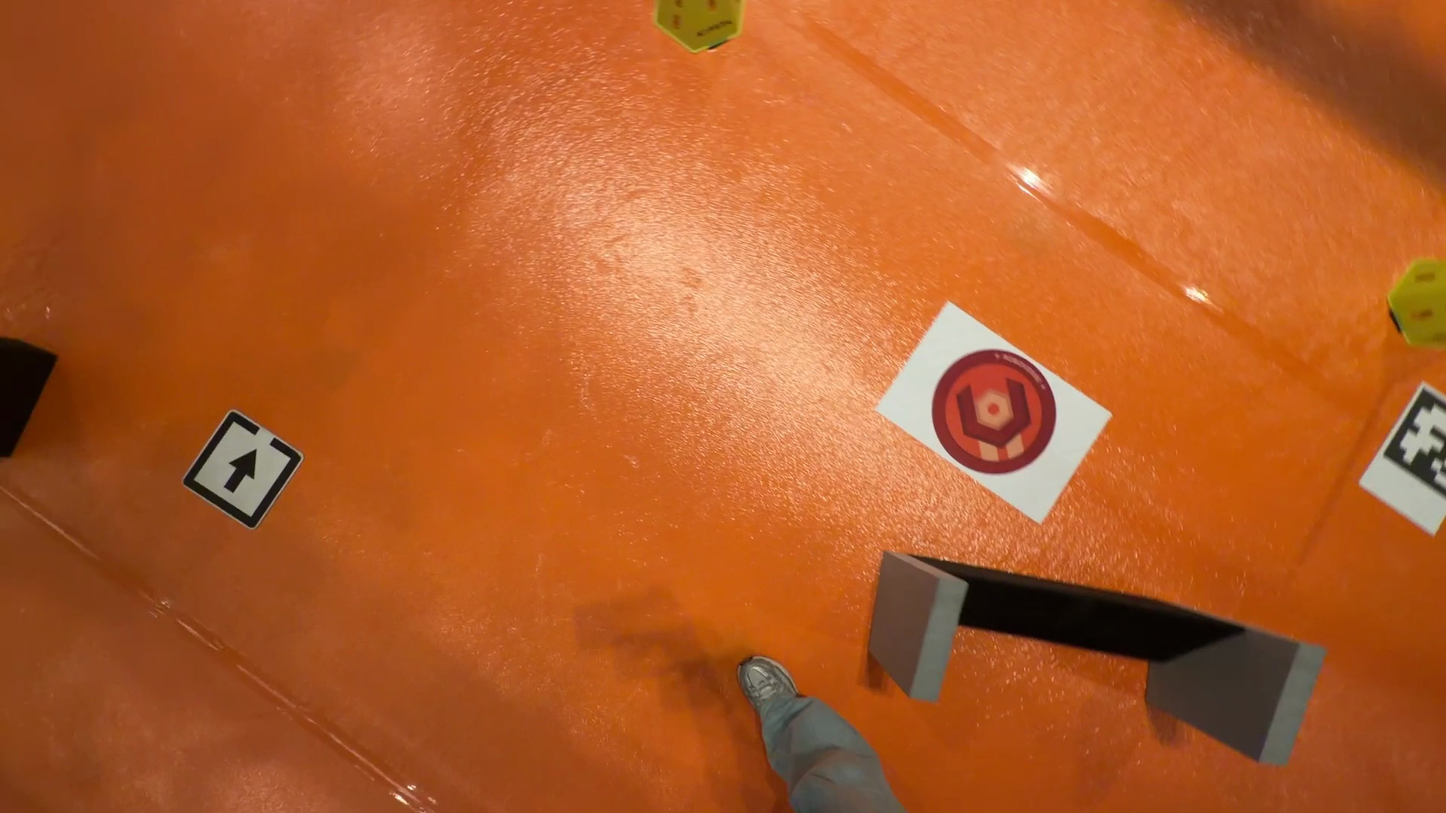landing_pad: (927, 350, 1060, 477)
